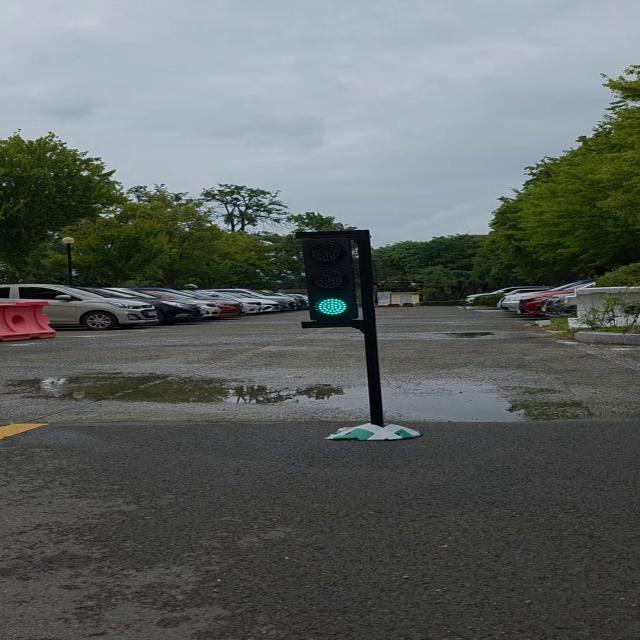green: (301, 234, 376, 330)
